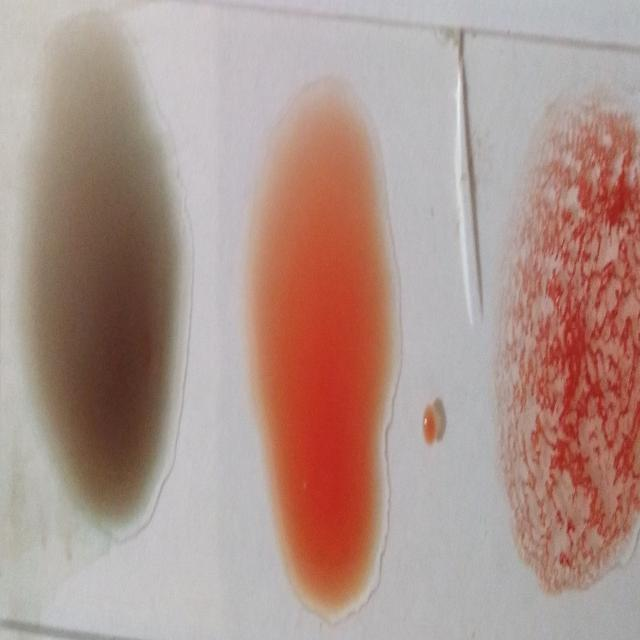D: (501, 96, 640, 590)
